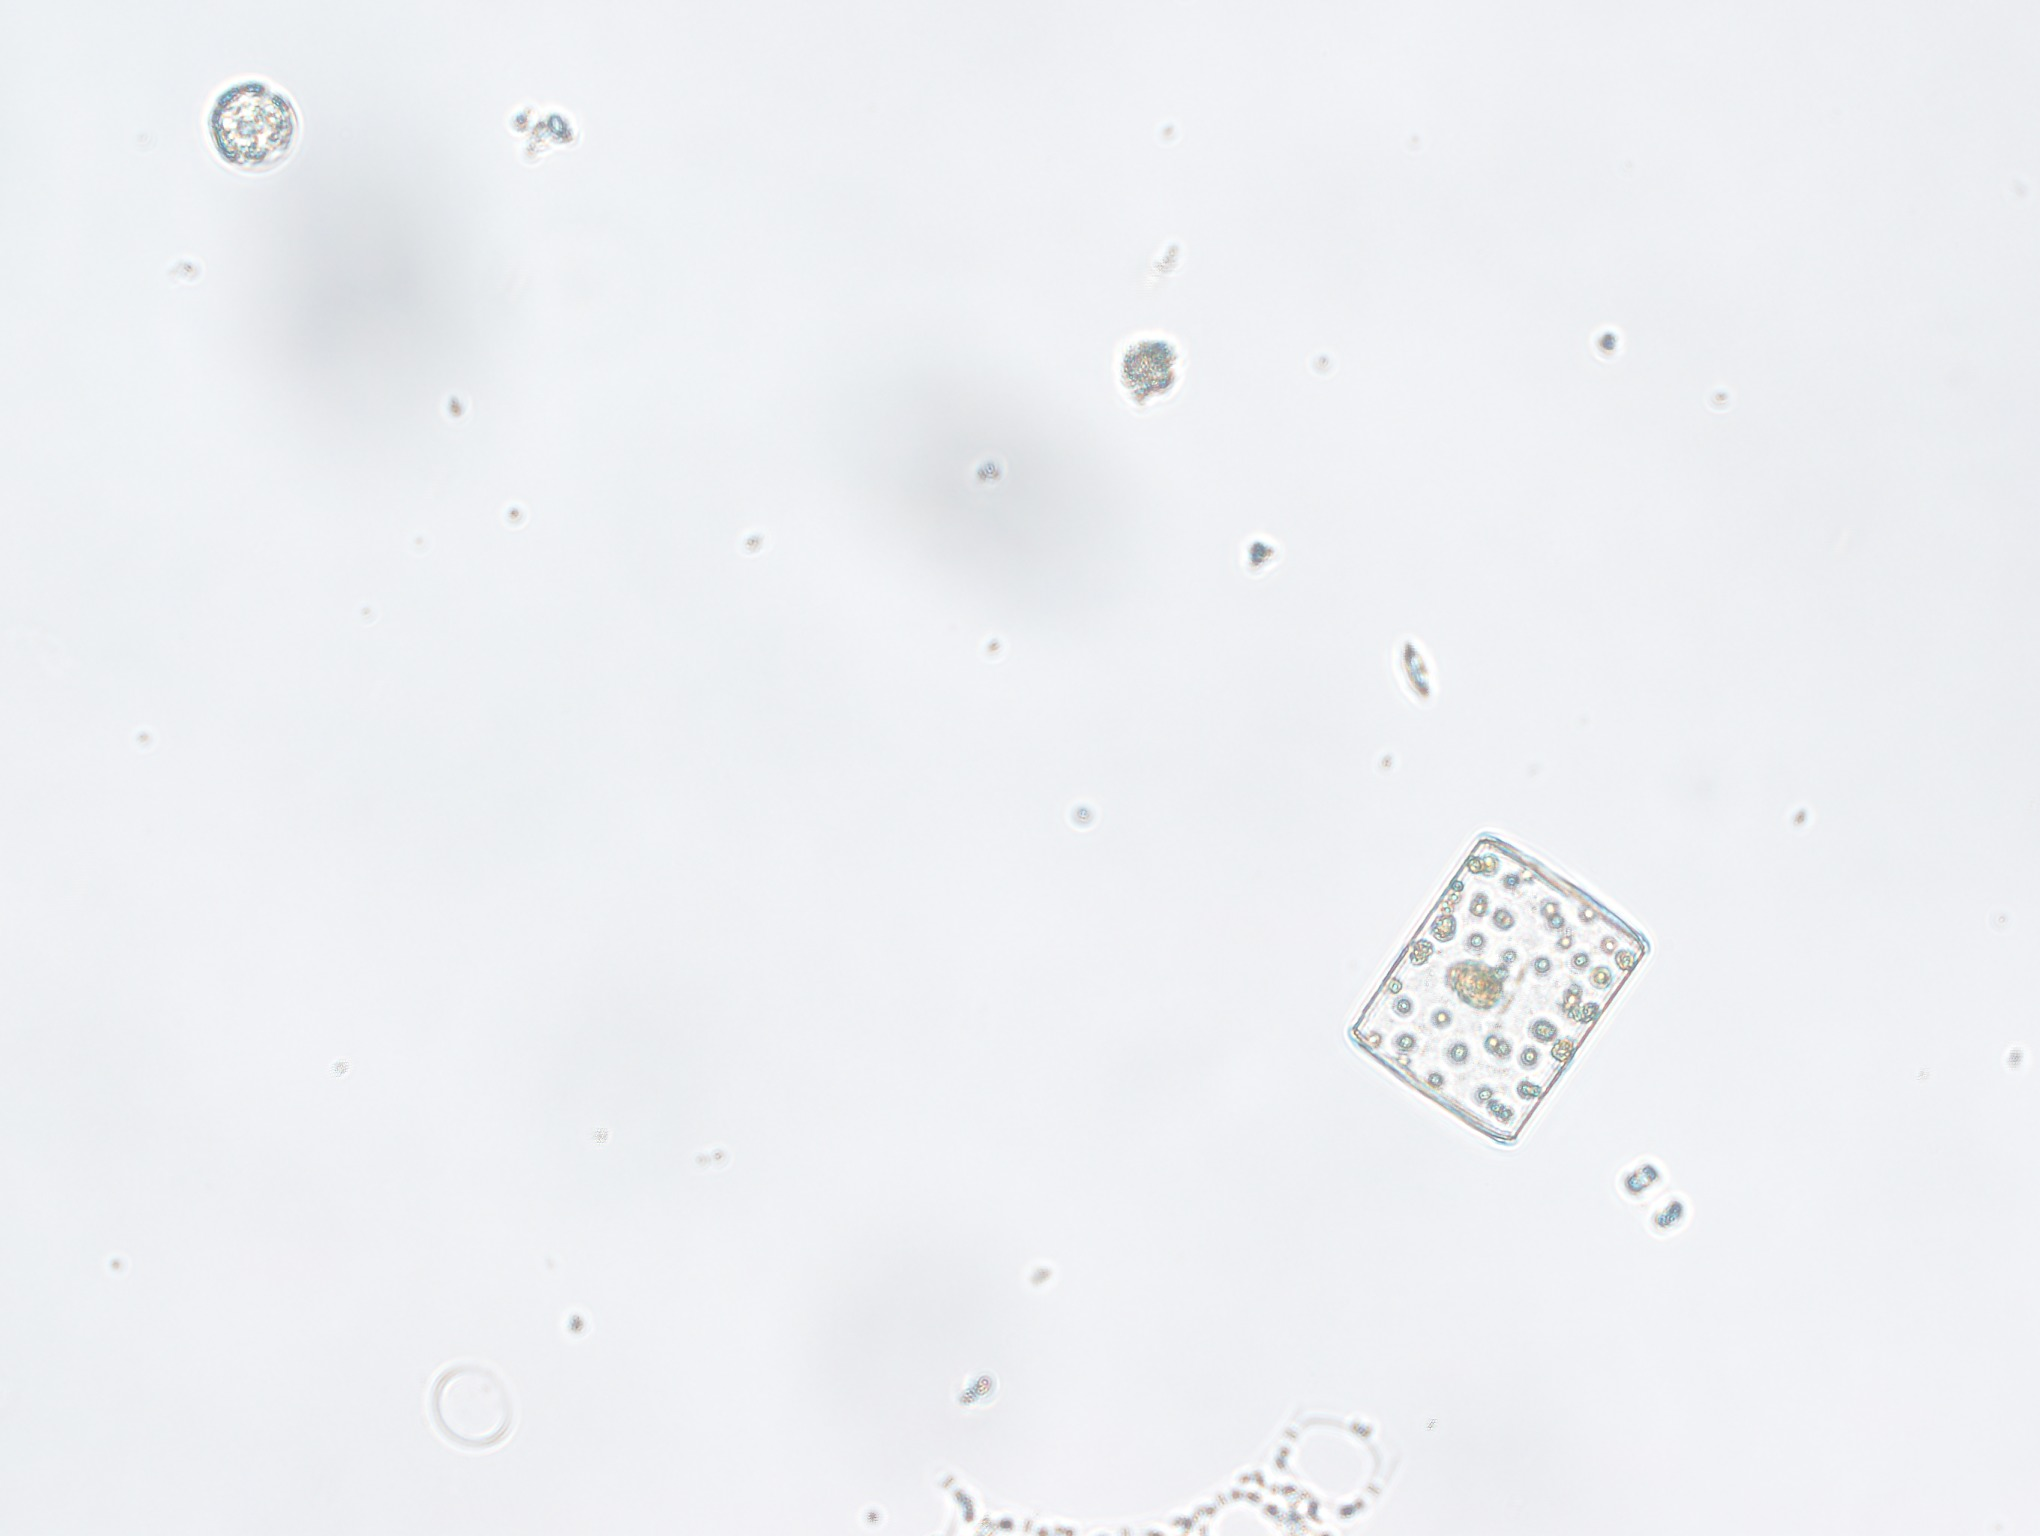guinardia flaccida: (1313, 774, 1655, 1154)
